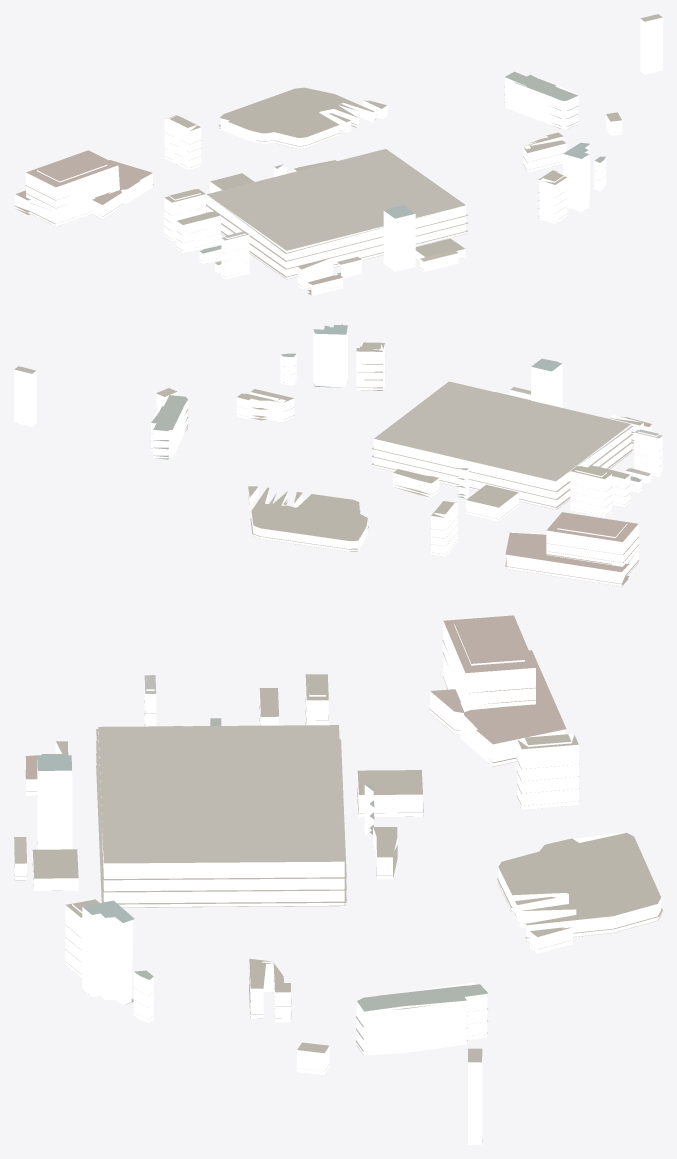
File: buildings--2_-1-coarse.glb
The picture shows the model from 3 angles, top to bottom: view 1: azimuth 30°, elevation 25°; view 2: azimuth 150°, elevation 25°; view 3: azimuth 270°, elevation 25°; orthographic projection. The views are drawn at different scales.
Visible parts, largest first — view 1: block_-2_-1_roof, block_-2_-1_residential, block_-2_-1_office; view 2: block_-2_-1_roof, block_-2_-1_residential, block_-2_-1_office; view 3: block_-2_-1_roof, block_-2_-1_residential, block_-2_-1_office.
Part boxes in pixels (left/top/right/bottom): block_-2_-1_roof: left=14, top=14, right=662, bottom=295; block_-2_-1_residential: left=15, top=75, right=622, bottom=295; block_-2_-1_office: left=383, top=17, right=662, bottom=271; block_-2_-1_roof: left=14, top=324, right=662, bottom=586; block_-2_-1_residential: left=151, top=344, right=662, bottom=586; block_-2_-1_office: left=14, top=326, right=562, bottom=426; block_-2_-1_roof: left=14, top=615, right=662, bottom=1141; block_-2_-1_residential: left=14, top=621, right=661, bottom=1075; block_-2_-1_office: left=37, top=759, right=482, bottom=1144.
Size of the model in its own units: 667 by 57.75 by 387.
